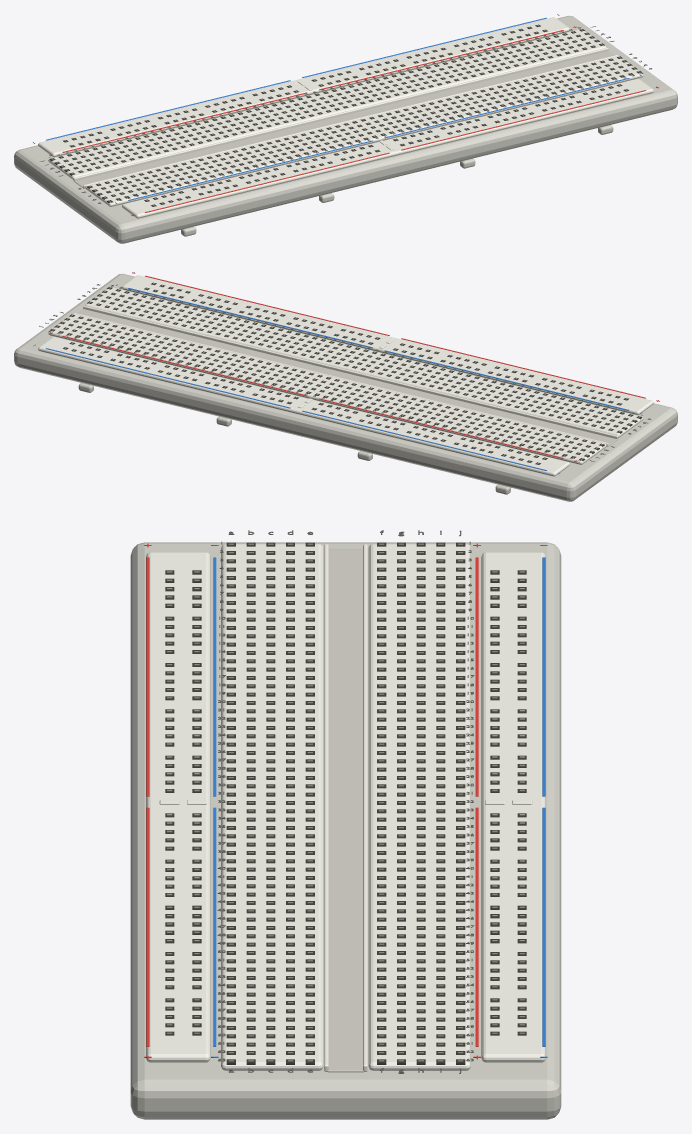
The model's file is breadboard-large.glb.
The picture shows the model from 3 angles, top to bottom: view 1: azimuth 30°, elevation 25°; view 2: azimuth 150°, elevation 25°; view 3: azimuth 270°, elevation 25°; orthographic projection. The views are drawn at different scales.
Visible parts, largest first — view 1: Breadboard_Base, Terminal_Deck_Left, Terminal_Deck_Right, Socket_Recesses, Power_Deck_Bottom, Power_Deck_Top, Center_Trench, Socket_Contacts, Trench_Edge_2, Trench_Edge_1, Bottom_Blue_Line_Left, Bottom_Blue_Line_Right (+6 smaller); view 2: Breadboard_Base, Terminal_Deck_Right, Terminal_Deck_Left, Socket_Recesses, Power_Deck_Top, Power_Deck_Bottom, Center_Trench, Socket_Contacts, Trench_Edge_1, Trench_Edge_2, Bottom_Blue_Line_Left, Top_Red_Line_Left (+6 smaller); view 3: Breadboard_Base, Terminal_Deck_Right, Terminal_Deck_Left, Socket_Recesses, Power_Deck_Bottom, Power_Deck_Top, Center_Trench, Socket_Contacts, Trench_Edge_1, Trench_Edge_2, Bottom_Red_Line_Left, Top_Blue_Line_Left (+6 smaller).
Boxes of the visible parts, left/top/right/bottom form: Breadboard_Base: left=14, top=15, right=677, bottom=243; Terminal_Deck_Left: left=85, top=56, right=643, bottom=206; Terminal_Deck_Right: left=48, top=29, right=606, bottom=179; Socket_Recesses: left=49, top=24, right=641, bottom=206; Power_Deck_Bottom: left=122, top=78, right=653, bottom=218; Power_Deck_Top: left=38, top=17, right=569, bottom=157; Center_Trench: left=74, top=51, right=614, bottom=188; Socket_Contacts: left=52, top=25, right=640, bottom=205; Trench_Edge_2: left=73, top=47, right=608, bottom=181; Trench_Edge_1: left=83, top=55, right=618, bottom=188; Bottom_Blue_Line_Left: left=128, top=140, right=372, bottom=200; Bottom_Blue_Line_Right: left=384, top=78, right=629, bottom=138; Breadboard_Base: left=14, top=273, right=677, bottom=501; Terminal_Deck_Right: left=48, top=314, right=606, bottom=464; Terminal_Deck_Left: left=85, top=287, right=643, bottom=437; Socket_Recesses: left=50, top=282, right=642, bottom=464; Power_Deck_Top: left=38, top=336, right=569, bottom=476; Power_Deck_Bottom: left=122, top=275, right=653, bottom=415; Center_Trench: left=77, top=309, right=617, bottom=446; Socket_Contacts: left=51, top=283, right=639, bottom=463; Trench_Edge_1: left=83, top=305, right=618, bottom=439; Trench_Edge_2: left=73, top=313, right=608, bottom=446; Bottom_Blue_Line_Left: left=384, top=350, right=629, bottom=410; Top_Red_Line_Left: left=319, top=398, right=563, bottom=458; Breadboard_Base: left=130, top=542, right=561, bottom=1119; Terminal_Deck_Right: left=368, top=544, right=470, bottom=1070; Terminal_Deck_Left: left=221, top=544, right=323, bottom=1070; Socket_Recesses: left=165, top=542, right=526, bottom=1064; Power_Deck_Bottom: left=146, top=552, right=210, bottom=1062; Power_Deck_Top: left=481, top=552, right=545, bottom=1062; Center_Trench: left=328, top=549, right=363, bottom=1072; Socket_Contacts: left=167, top=543, right=524, bottom=1061; Trench_Edge_1: left=324, top=544, right=328, bottom=1071; Trench_Edge_2: left=363, top=544, right=367, bottom=1071; Bottom_Red_Line_Left: left=146, top=557, right=149, bottom=796; Top_Blue_Line_Left: left=542, top=557, right=545, bottom=796.
Size of the model in its own units: 1.67 by 0.0895 by 0.555.
